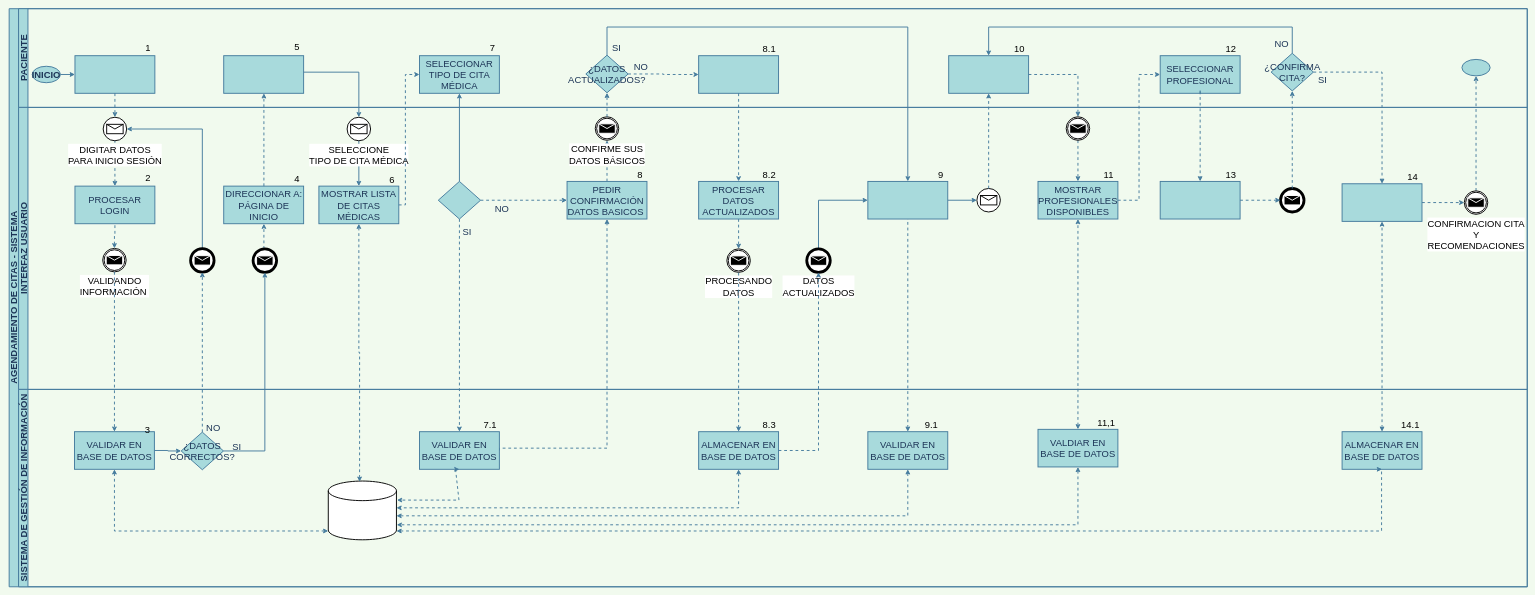
This 1535x595 diagram has some shape labels left out. The shapes that lost their labels are listed below. From the top down, each one's box as (x1, y1, x2, y2) in pixels, then its label:
(74, 55, 155, 94): INGRESAR A PLATAFORMA WEB
(223, 55, 304, 94): INGRESAR A MODULO: AGENDAR CITAS
(698, 55, 779, 94): INGRESAR DATOS ACTUALIZADOS
(948, 55, 1029, 94): ESCOGER FECHA Y HORA DISPONIBLE
(1461, 59, 1490, 76): FIN
(1065, 116, 1090, 141): SELECCCIONE PROFESIONAL DISPONIBLE
(438, 181, 481, 219): ¿HAY ORDEN MÉDICA REGISTRADA?
(867, 181, 948, 219): MOSTRAR CALENDARIO: FECHA Y HORA DISPONIBLE
(976, 188, 1001, 212): SELECCIONE FECHA Y HORA
(1159, 181, 1240, 219): PROCESAR DATOS DE CITA
(1280, 188, 1304, 212): RESUMEN DE CITA
(1341, 183, 1422, 222): AGENDAR CITA
(190, 248, 214, 272): DATOS INCORRECTOS, DIGITELOS NUEVAMENTE
(252, 248, 277, 273): BIENVENIDO
(328, 480, 397, 540): BASE DE DATOS DE SISTEMA
